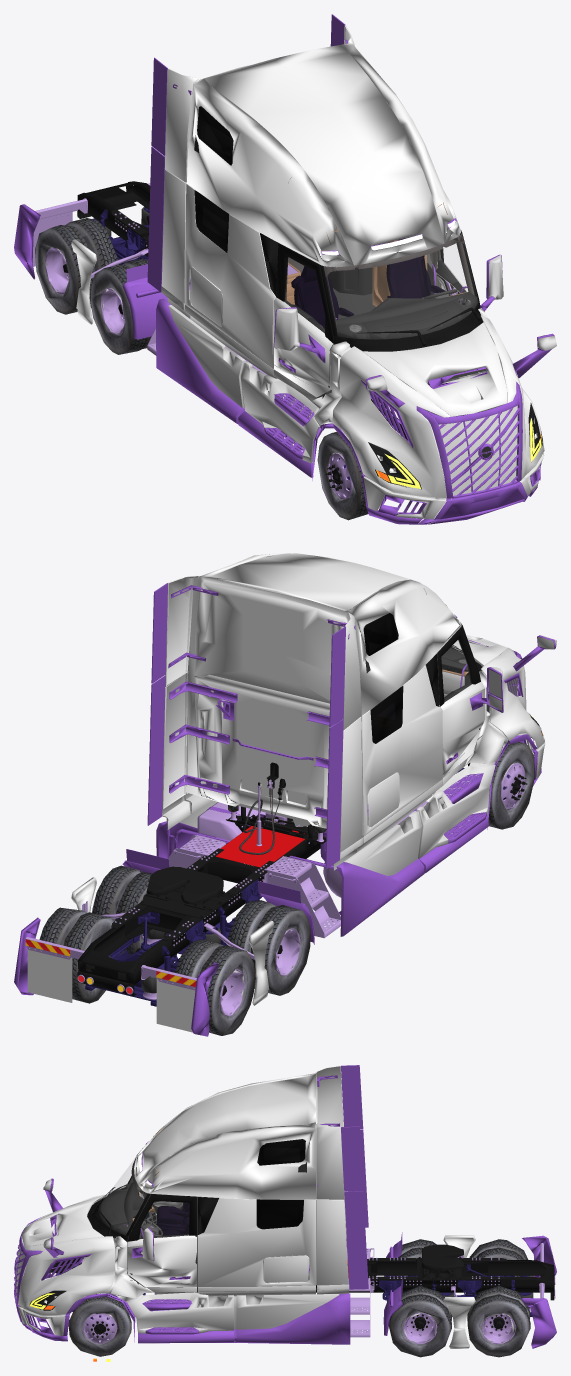
Rendered from truck-lite.glb.
3 renders of one model, top to bottom at view 1: azimuth 30°, elevation 25°; view 2: azimuth 150°, elevation 25°; view 3: azimuth 270°, elevation 25°, orthographic. The views are drawn at different scales.
Visible parts, largest first — view 1: Object_33, plastico xtr_86, Object_31, lllantas_77, plastico drk02_85, parrilla frontal _83, metalick truck_79, Object_8, sillass001_97, ventana bd _113, rines amrcs_95, frame _59 (+12 smaller); view 2: Object_33, plastico xtr_86, lllantas_77, Object_31, frame _59, metalick truck_79, 5ta rueda _3, escalera_58, guarda barros _70, axle diferential_25, rines amrcs_95, ventana bd _113 (+9 smaller); view 3: Object_33, plastico xtr_86, lllantas_77, Object_31, frame _59, 5ta rueda _3, plastico drk02_85, ventana bd _113, rines amrcs_95, metalick truck_79, Object_43, axle diferential_25 (+6 smaller).
Part boxes in pixels (left/top/right/bottom): Object_33: left=161, top=25, right=544, bottom=498; plastico xtr_86: left=14, top=14, right=554, bottom=524; Object_31: left=161, top=255, right=556, bottom=519; lllantas_77: left=35, top=218, right=518, bottom=520; plastico drk02_85: left=260, top=230, right=542, bottom=489; parrilla frontal _83: left=416, top=382, right=522, bottom=498; metalick truck_79: left=173, top=39, right=527, bottom=519; Object_8: left=438, top=406, right=517, bottom=495; sillass001_97: left=291, top=238, right=445, bottom=328; ventana bd _113: left=194, top=106, right=232, bottom=252; rines amrcs_95: left=45, top=247, right=353, bottom=499; frame _59: left=77, top=181, right=467, bottom=443; Object_33: left=162, top=553, right=544, bottom=852; plastico xtr_86: left=14, top=583, right=555, bottom=1036; lllantas_77: left=39, top=740, right=535, bottom=1035; Object_31: left=162, top=636, right=556, bottom=875; frame _59: left=77, top=815, right=326, bottom=995; metalick truck_79: left=168, top=585, right=526, bottom=843; 5ta rueda _3: left=111, top=848, right=274, bottom=948; escalera_58: left=168, top=835, right=340, bottom=938; guarda barros _70: left=27, top=949, right=195, bottom=1032; axle diferential_25: left=85, top=768, right=509, bottom=1006; rines amrcs_95: left=141, top=762, right=525, bottom=1016; ventana bd _113: left=363, top=613, right=403, bottom=743; Object_33: left=18, top=1065, right=348, bottom=1314; plastico xtr_86: left=22, top=1065, right=556, bottom=1348; lllantas_77: left=68, top=1239, right=530, bottom=1357; Object_31: left=18, top=1179, right=348, bottom=1335; frame _59: left=49, top=1258, right=554, bottom=1300; 5ta rueda _3: left=367, top=1244, right=506, bottom=1286; plastico drk02_85: left=29, top=1175, right=218, bottom=1310; ventana bd _113: left=256, top=1139, right=305, bottom=1229; rines amrcs_95: left=83, top=1275, right=515, bottom=1343; metalick truck_79: left=15, top=1075, right=339, bottom=1334; Object_43: left=443, top=1235, right=475, bottom=1348; axle diferential_25: left=56, top=1264, right=532, bottom=1325.
Size of what is drawn, in the model's own units: 3.24 by 4.42 by 9.39.
Materials: 33 (7 with a texture image).
